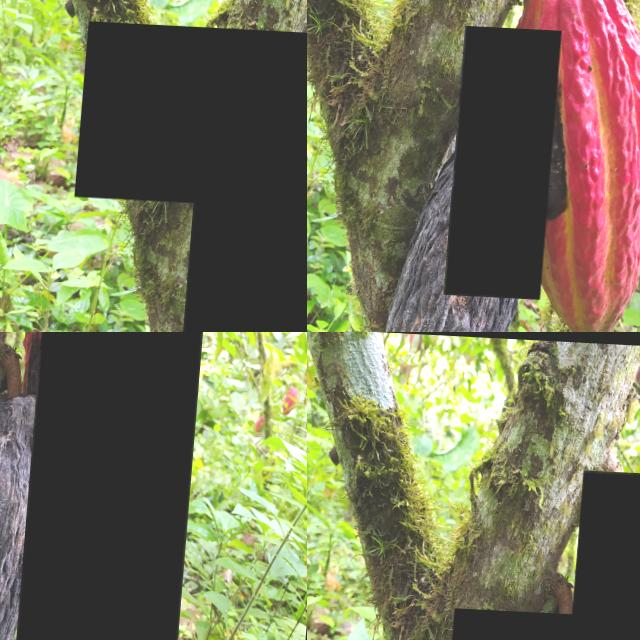Fitoftora: (79, 20, 307, 205)
Monilia: (182, 149, 307, 332)
Sana: (23, 332, 212, 640), (452, 23, 565, 296)
